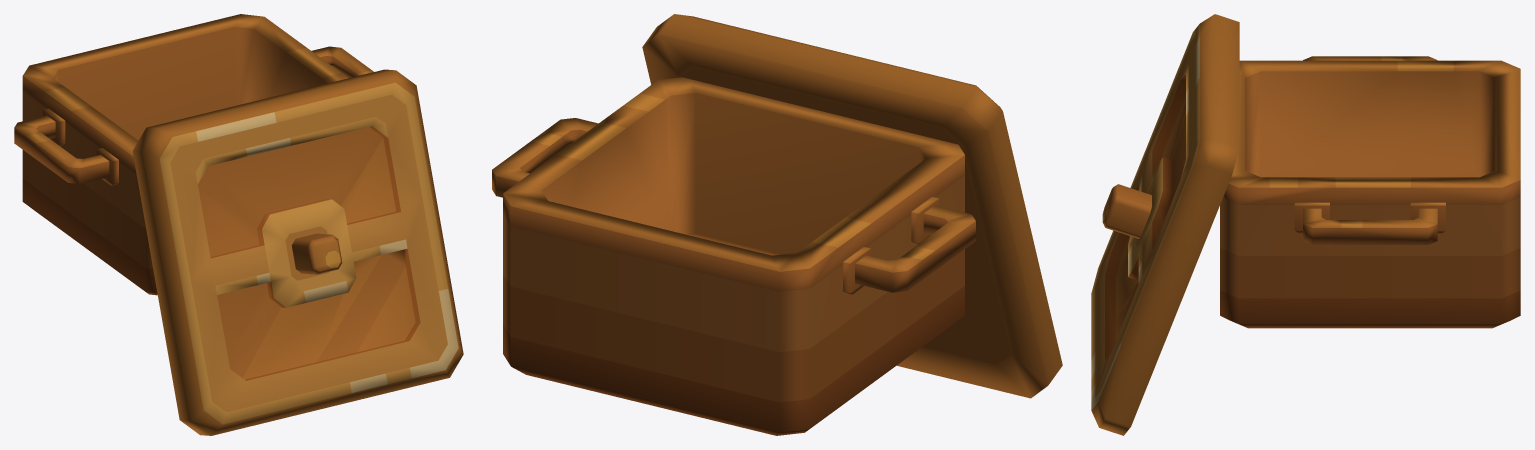
Rendered from BC_cauldron02_idle.fbx.
The picture shows the model from 3 angles, left to right: view 1: azimuth 30°, elevation 25°; view 2: azimuth 150°, elevation 25°; view 3: azimuth 270°, elevation 25°; orthographic projection. The views are drawn at different scales.
Visible parts, largest first — view 1: model02 1, model02; view 2: model02, model02 1; view 3: model02, model02 1.
Boxes of the visible parts, <box> form: model02 1: <box>132,69,463,435</box>; model02: <box>14,14,373,295</box>; model02: <box>492,77,975,435</box>; model02 1: <box>642,14,1062,398</box>; model02: <box>1220,56,1520,328</box>; model02 1: <box>1091,14,1239,435</box>.
Bounding box in the file's own units: 5.41 × 4.36 × 5.71.
